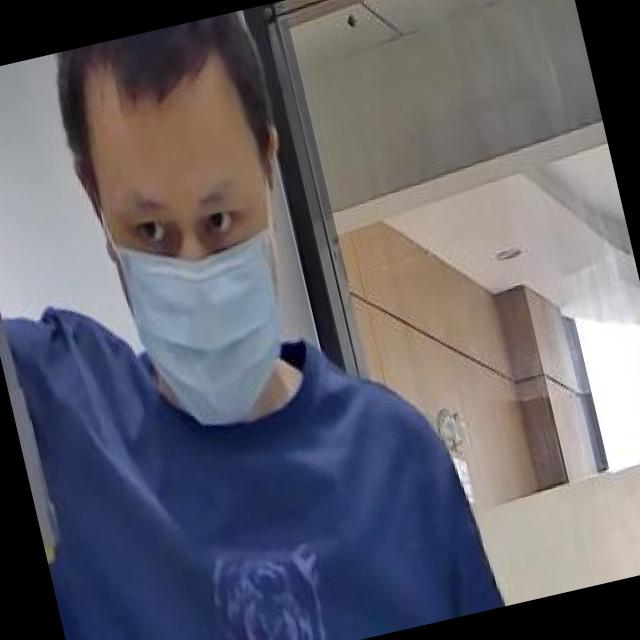Guns: (0, 63, 127, 596)
